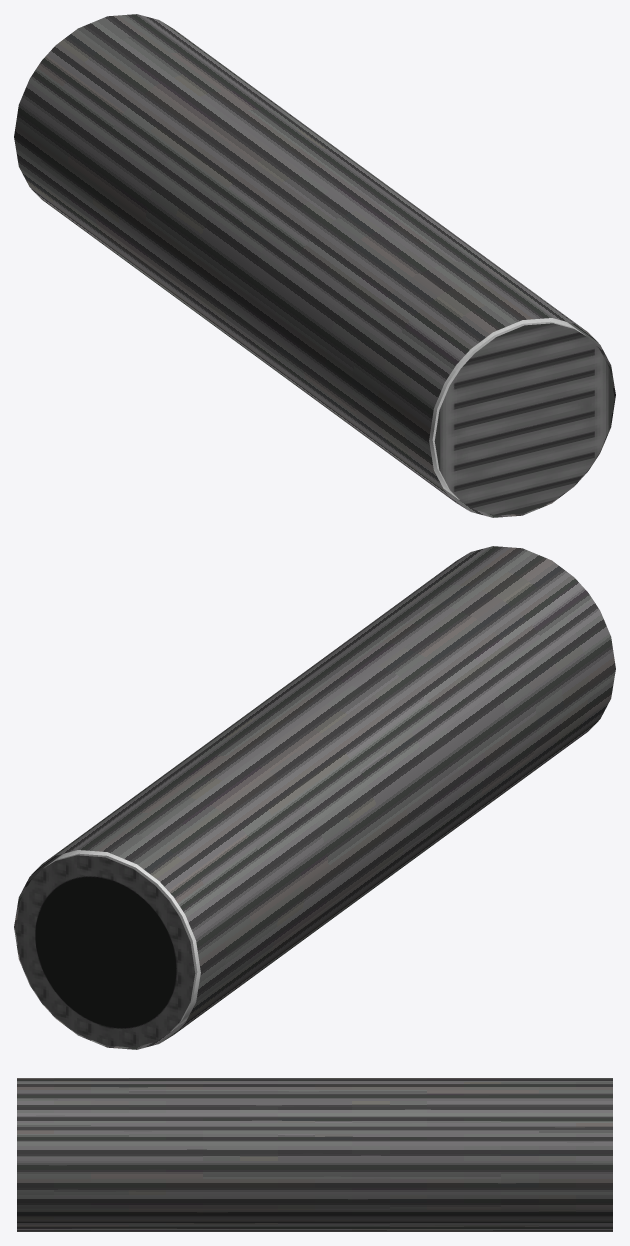
Rendered from energygun.obj.
3 views of the same model, one above another, from view 1: azimuth 30°, elevation 25°; view 2: azimuth 150°, elevation 25°; view 3: azimuth 270°, elevation 25° (orthographic). The views are drawn at different scales.
Parts seen in each view (by area): view 1: Energygun3, Energygun4, Energygun7, Energygun1; view 2: Energygun3, Energygun4, Energygun2, Energygun1; view 3: Energygun5, Energygun4, Energygun6.
Part boxes in pixels (<box>): Energygun3: <box>14,61,455,502</box>; Energygun4: <box>42,14,586,364</box>; Energygun7: <box>434,323,614,515</box>; Energygun1: <box>429,318,585,499</box>; Energygun3: <box>174,593,615,1034</box>; Energygun4: <box>43,546,587,896</box>; Energygun2: <box>15,855,195,1047</box>; Energygun1: <box>44,850,200,1031</box>; Energygun5: <box>17,1128,612,1227</box>; Energygun4: <box>17,1078,612,1128</box>; Energygun6: <box>17,1227,612,1231</box>.
Bounding box in the file's own units: 1.04 × 1.04 × 4.04.
Materials: 4 (4 with a texture image).
